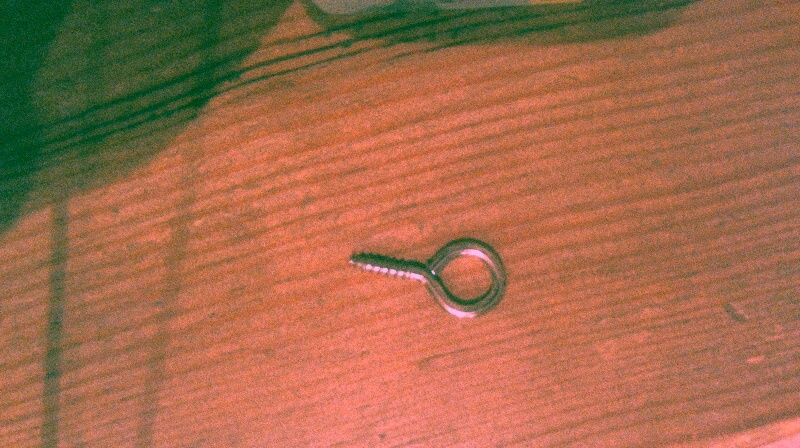O001: (344, 235, 508, 322)
